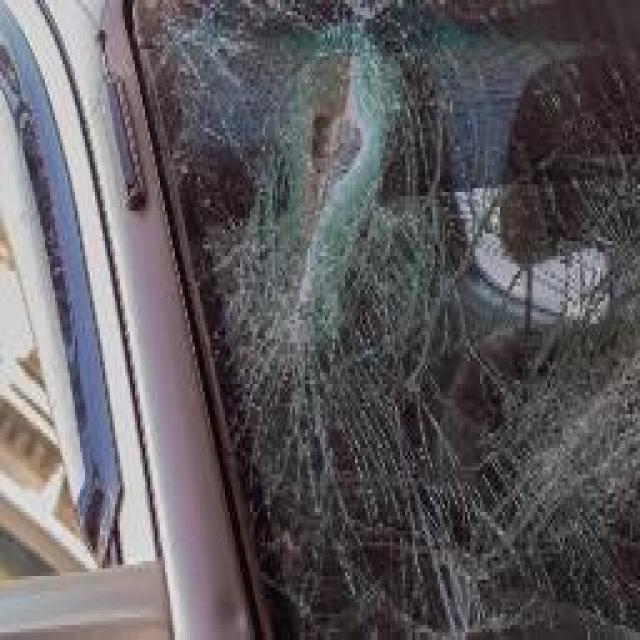Windshield: (128, 0, 640, 640)
